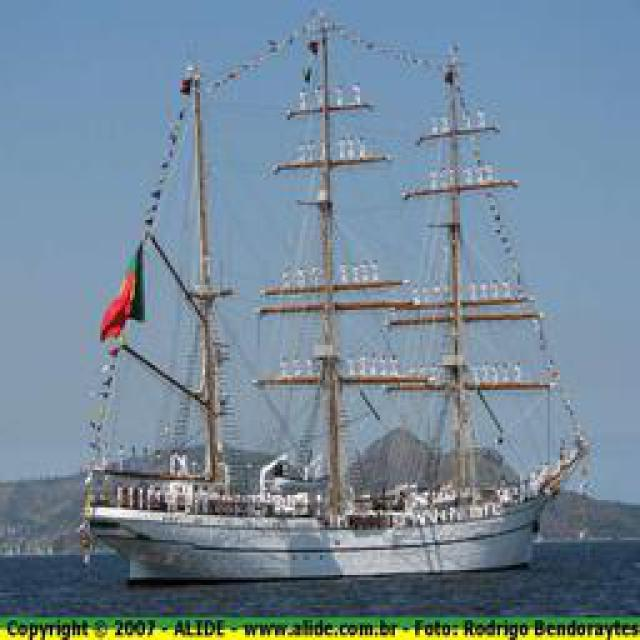Ship: (62, 20, 580, 598)
